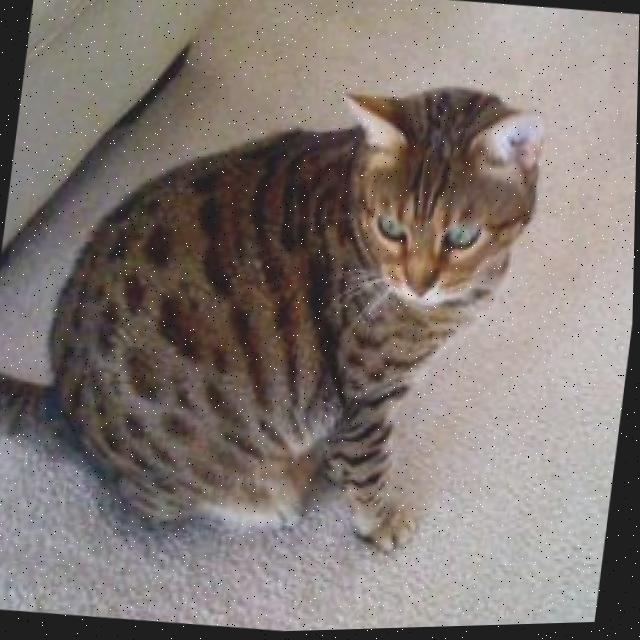Bengal: (0, 35, 560, 584)
